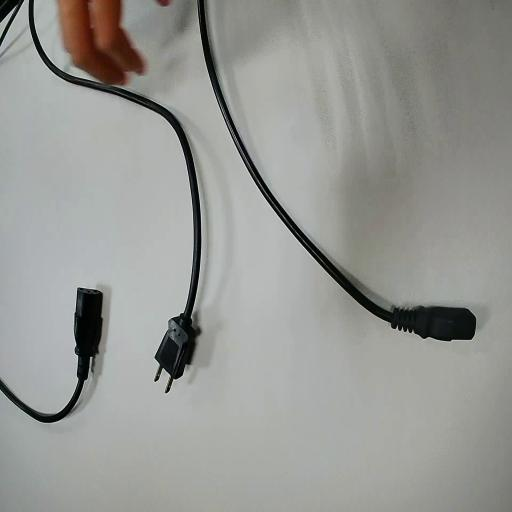wire: (198, 0, 475, 339), (30, 0, 199, 384), (0, 289, 101, 421)
